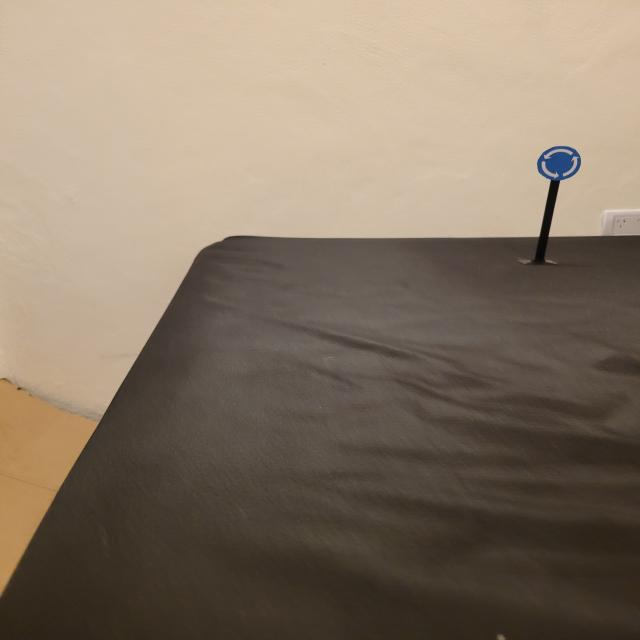round_about: (537, 146, 582, 180)
